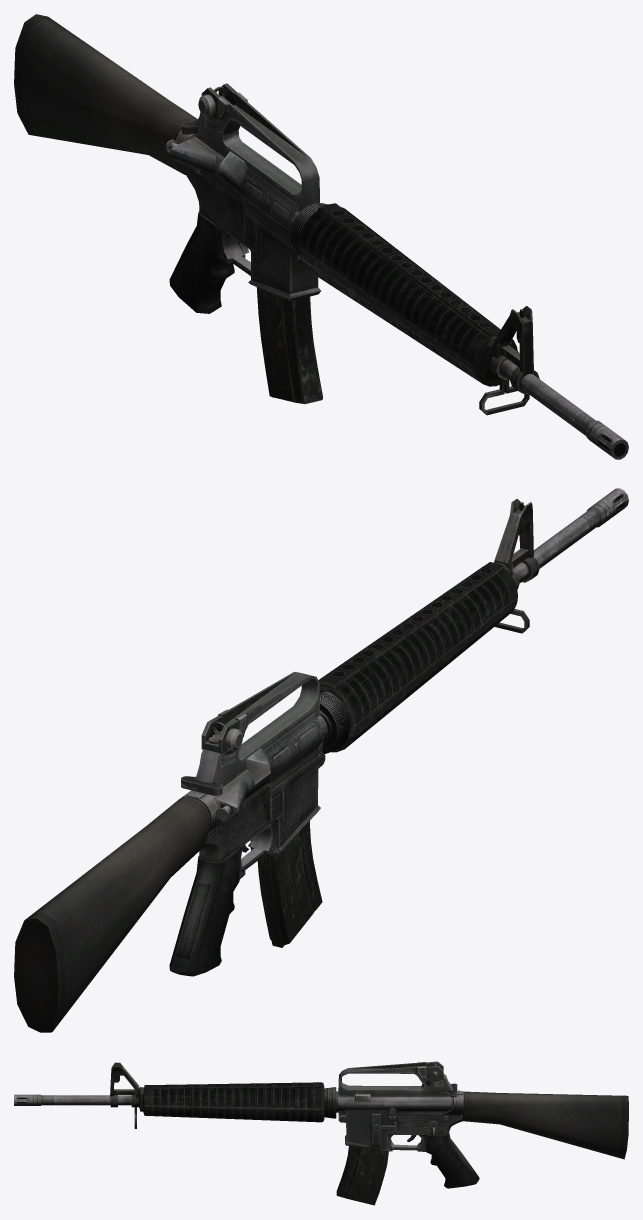
The picture shows the model from 3 angles, top to bottom: view 1: azimuth 30°, elevation 25°; view 2: azimuth 150°, elevation 25°; view 3: azimuth 270°, elevation 25°; orthographic projection. The views are drawn at different scales.
Visible parts, largest first — view 1: M16; view 2: M16; view 3: M16.
Boxes of the visible parts, left/top/right/bottom form: M16: left=14, top=14, right=628, bottom=459; M16: left=14, top=488, right=628, bottom=1032; M16: left=14, top=1061, right=628, bottom=1205.
Size of the model in its own units: 7.29 by 28.79 by 114.
